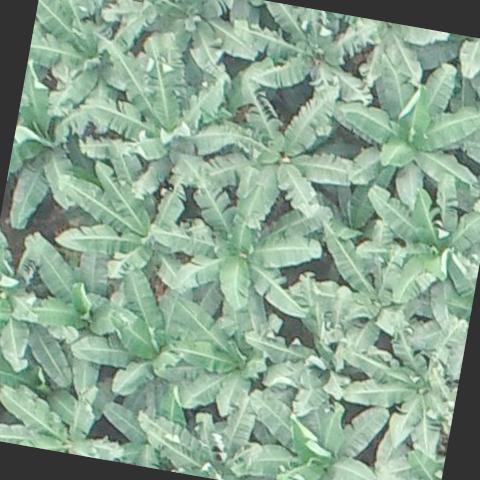Banana-plant: (160, 174, 333, 323), (85, 54, 249, 211), (207, 76, 368, 232), (327, 50, 480, 211), (0, 230, 134, 406), (42, 150, 202, 296), (329, 300, 470, 463), (65, 259, 198, 412), (345, 181, 480, 331), (148, 292, 286, 424), (227, 0, 385, 107), (23, 0, 159, 122), (226, 383, 390, 480), (232, 312, 368, 427), (0, 76, 97, 236), (97, 0, 265, 89), (302, 232, 412, 360), (125, 389, 259, 480), (0, 376, 131, 462), (0, 224, 50, 388)
